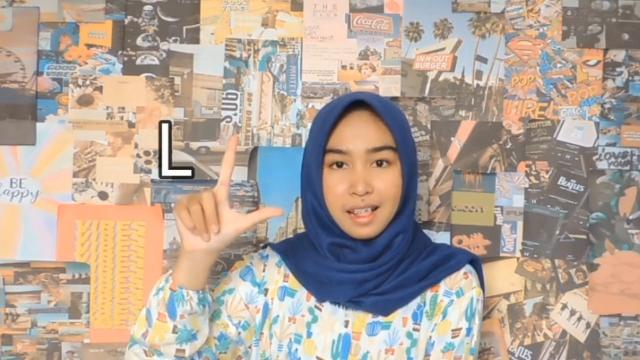L: (172, 124, 290, 250)
